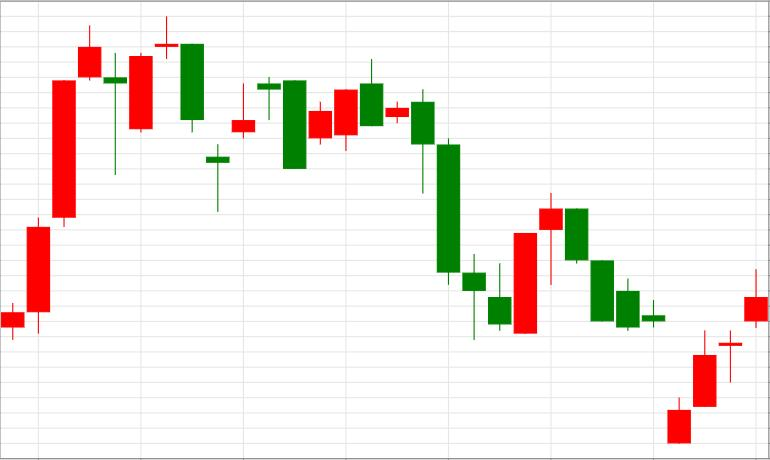bullish_engulfing_rise: (411, 89, 537, 340)
evening_star_fall: (1, 16, 203, 341)
inverse_hammer_rise: (411, 89, 511, 339)
